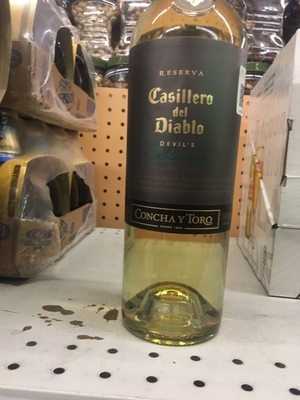casillero del diablo devils collection verde: (110, 3, 265, 364)
